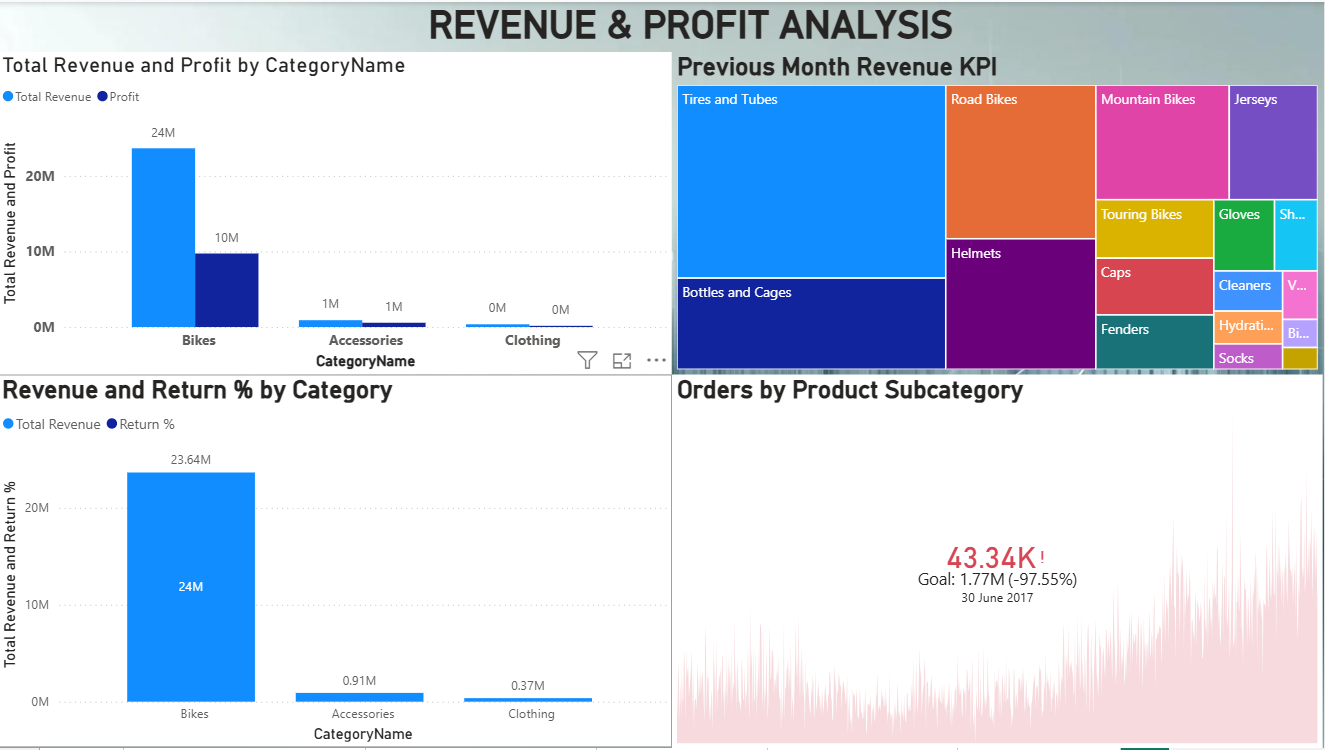

What the dashboard file says about the page in this screenshot:
{"tool":"powerbi","page":{"name":"REVENUE & Profit Analysis","canvas":[1280,720],"ordinal":2},"visuals":[{"type":"lineClusteredColumnComboChart","fields":{"Category":["Product-Categories.CategoryName"],"Y":["total_sales.Total Revenue","total_sales.Profit"]},"box":[0,48.1,651.4,311.5],"z":0},{"type":"treemap","title":"Previous Month Revenue KPI","fields":{"Group":["Product-Subcategories.SubcategoryName"],"Values":["total_sales.Total Orders"]},"box":[651.4,48.1,628.3,311.5],"z":1000},{"type":"columnChart","title":"Revenue and Return % by Category","fields":{"Category":["Product-Categories.CategoryName"],"Y":["total_sales.Total Revenue","Calendar.Return %"]},"box":[0,359.5,651.4,359.5],"z":2000},{"type":"kpi","title":"Orders by Product Subcategory","fields":{"Goal":["Calendar.Previous Month Revenue"],"Indicator":["total_sales.Total Revenue"],"TrendLine":["Calendar.Date"]},"box":[651.4,359.5,628.3,361.3],"z":3000},{"type":"textbox","title":"REVENUE & PROFIT ANALYSIS","box":[411,0,567.5,37],"z":4000}]}

Visuals, with their boxes in screenshot pixels (x1, y1, x2, y2), scaled from the page's 1280x720 canvas onto the 1325x750 screenshot:
lineClusteredColumnComboChart - Product-Categories.CategoryName x total_sales.Total Revenue: Rect(0, 50, 674, 375)
"Previous Month Revenue KPI" treemap: Rect(674, 50, 1324, 375)
"Revenue and Return % by Category" columnChart: Rect(0, 374, 674, 749)
"Orders by Product Subcategory" kpi: Rect(674, 374, 1324, 749)
"REVENUE & PROFIT ANALYSIS" textbox: Rect(425, 0, 1013, 39)
